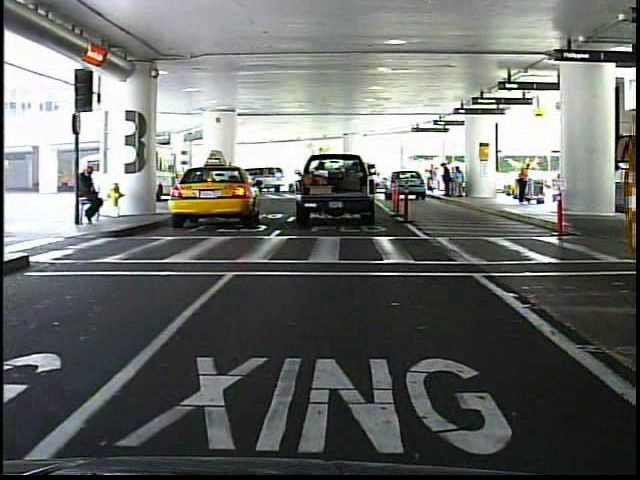person: (78, 160, 106, 230), (512, 158, 533, 209)
